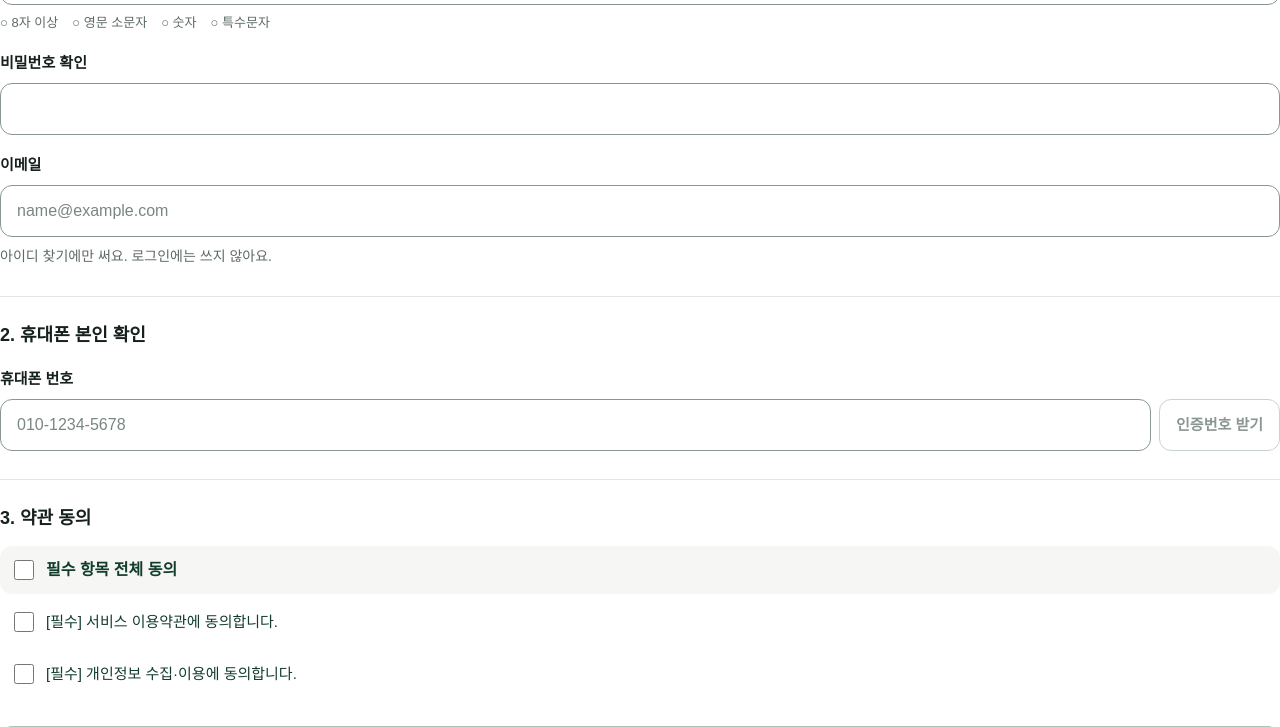
PasswordSignupForm › 문자 발송 뒤 인증번호 입력을 바로 아래에 펼치고 성공 상태를 저장한다
(page scrolled)
In the field labelled "휴대폰 번호": (576, 425) [17,413,1134,437], type "01012345678"
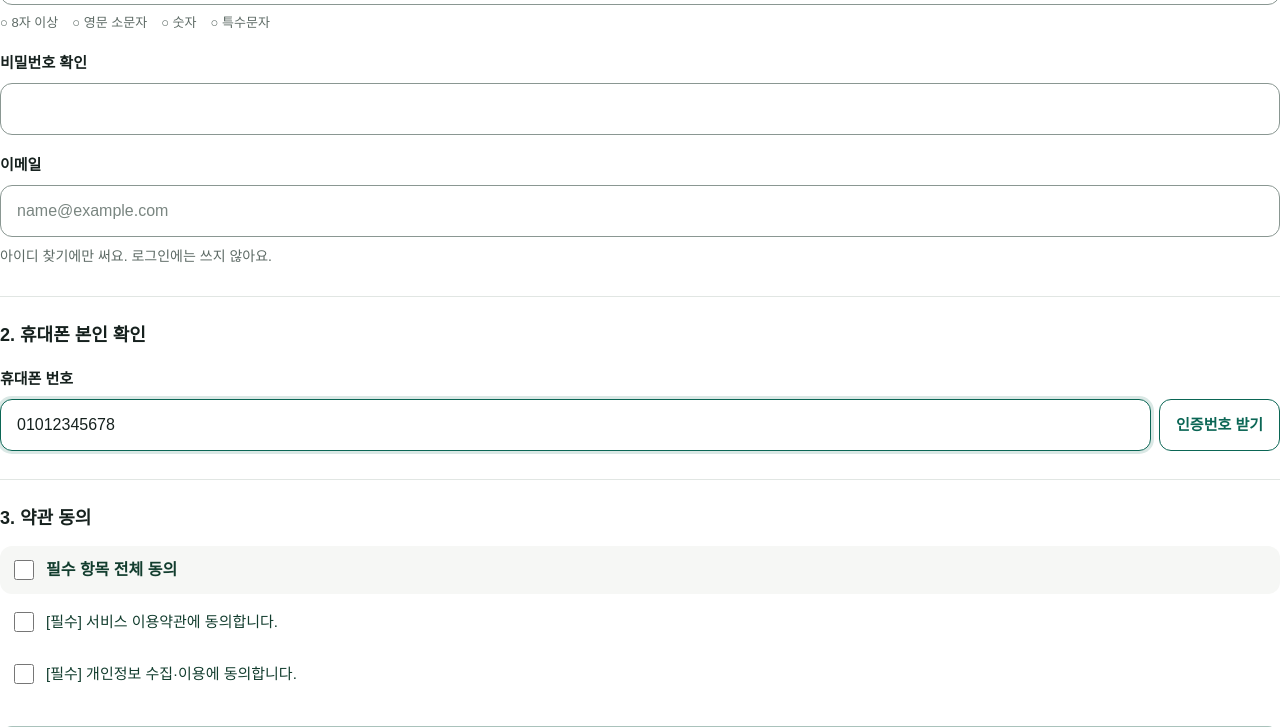
Click the button "인증번호 받기": (1220, 425) [1159,399,1279,451]
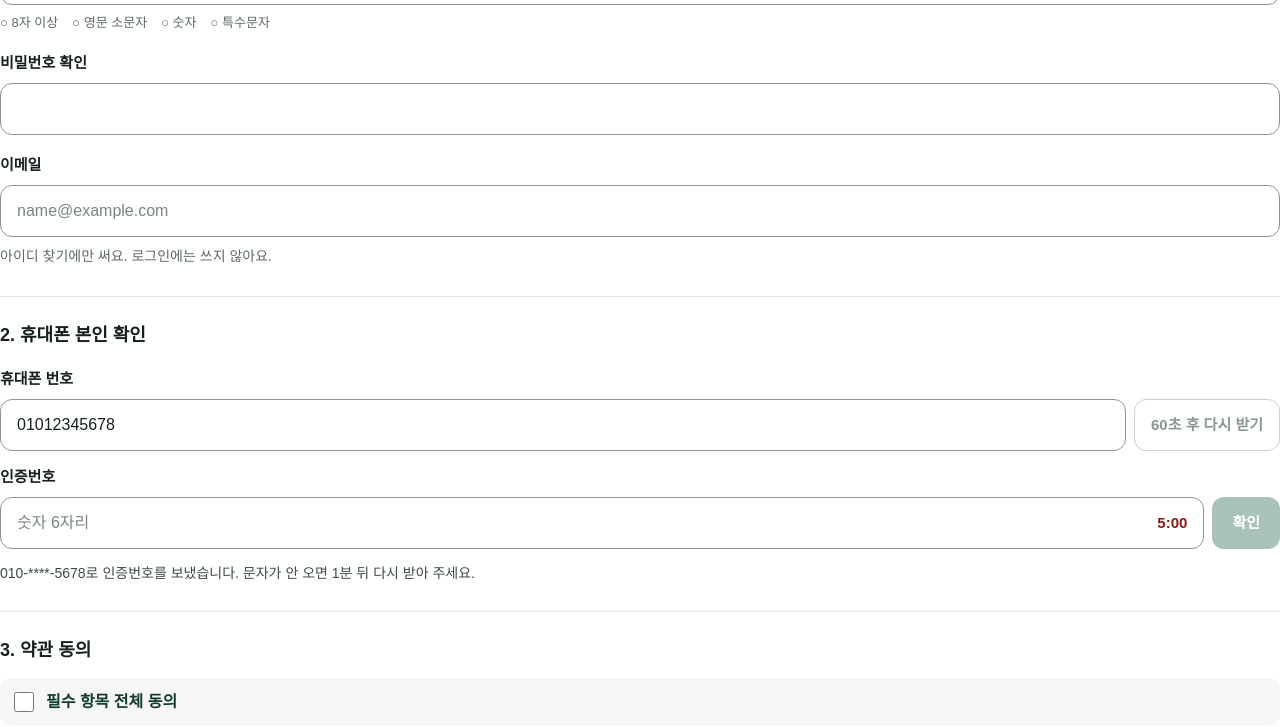
In the field labelled "인증번호": (587, 523) [17,511,1157,535], type "123456"
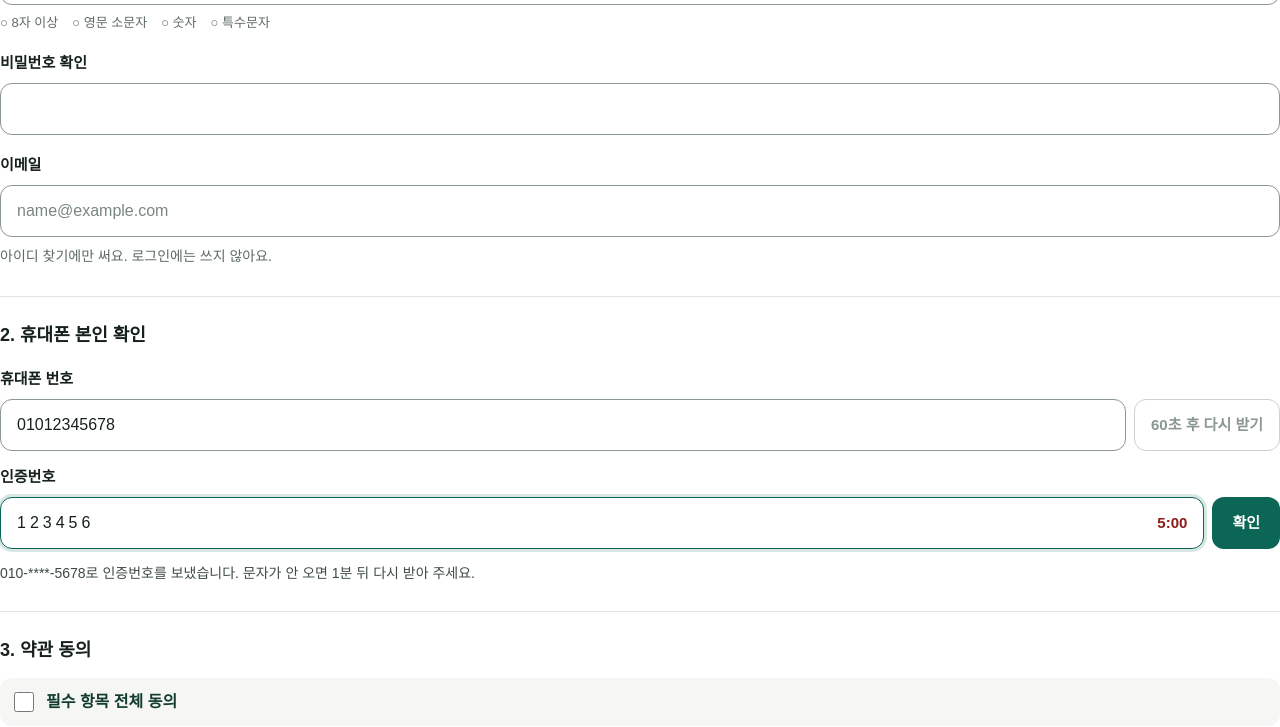
Click the button with aria-label "인증 확인": (1246, 523) [1212,497,1279,549]
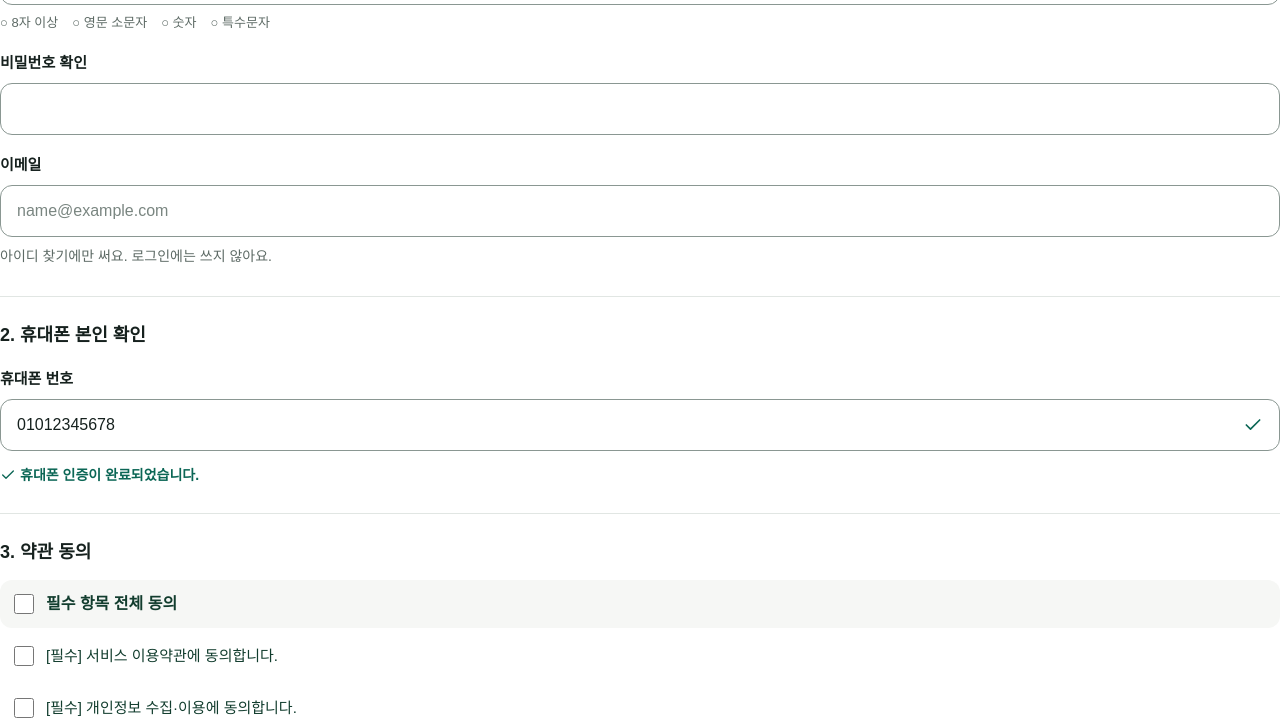
Result: the text "휴대폰 인증이 완료되었습니다." is shown at [0,467,199,483]
